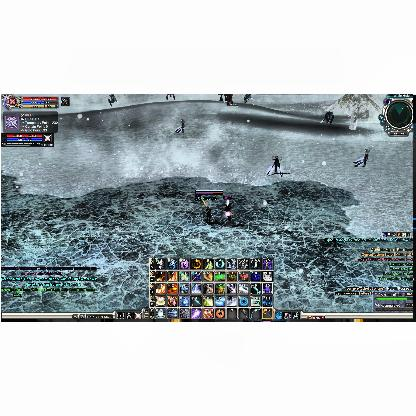caliana: (266, 154, 282, 178), (352, 148, 370, 168), (174, 119, 186, 133)
